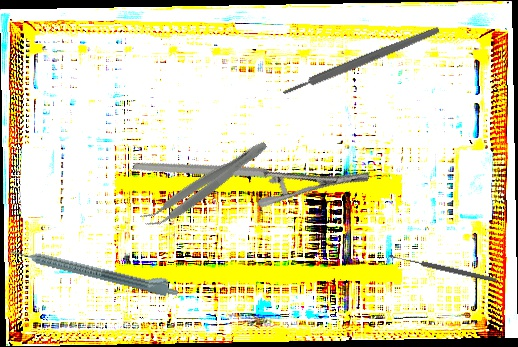Handpiece: (9, 238, 181, 300)
Needle Holder: (132, 88, 372, 254)
Scalpel Handle: (281, 24, 441, 98)
Surgical Spoon: (388, 252, 498, 284)
Tissue Forceps: (138, 131, 272, 236)
